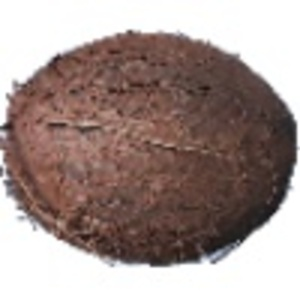coco: (1, 30, 297, 268)
